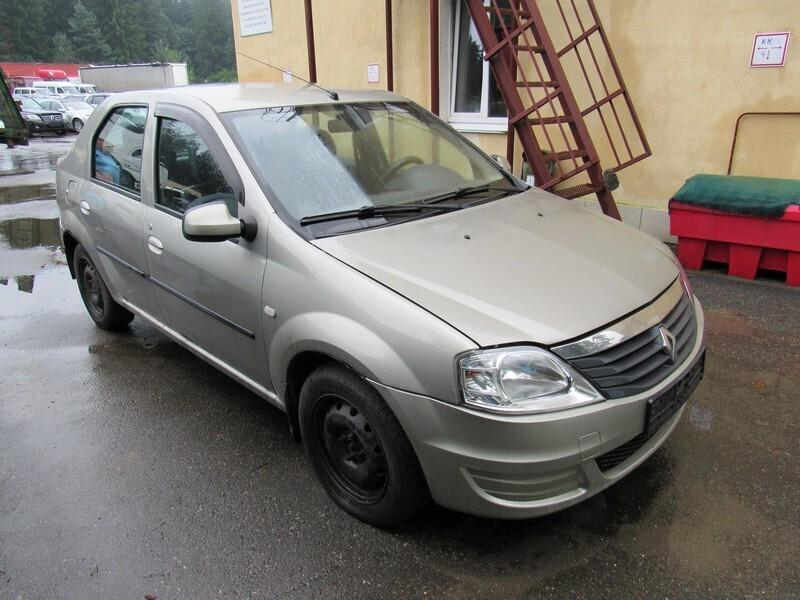Logan_2008-2015: (45, 79, 709, 532)
